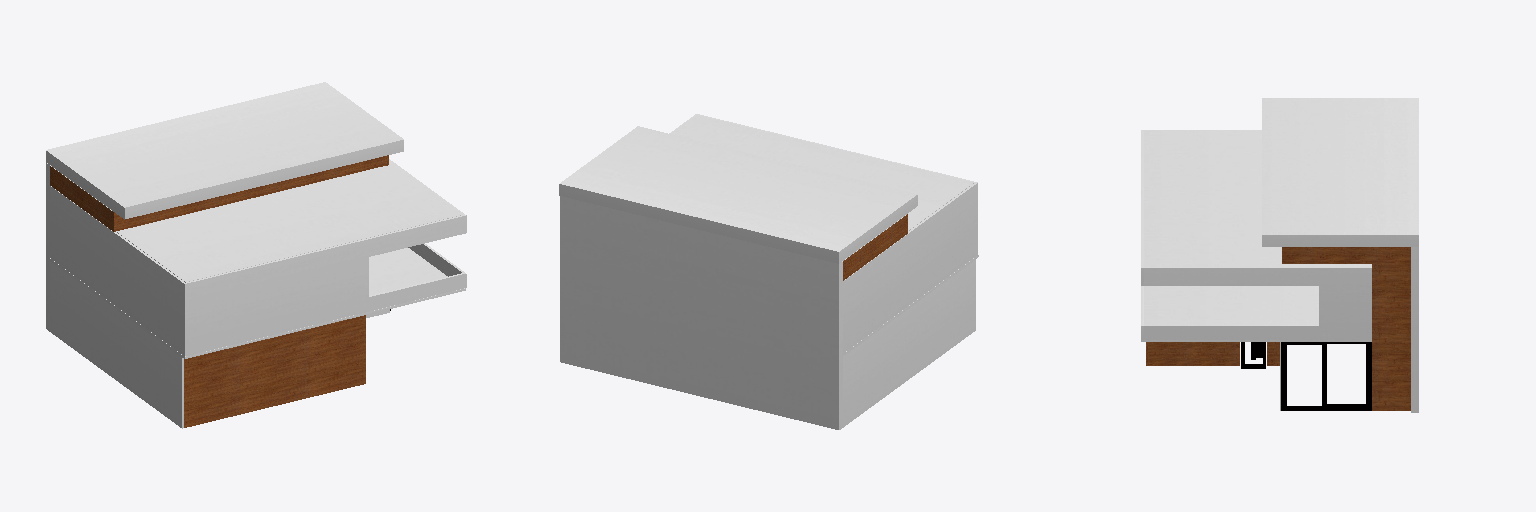
3 views of the same model, side by side, from view 1: azimuth 30°, elevation 25°; view 2: azimuth 150°, elevation 25°; view 3: azimuth 270°, elevation 25° (orthographic).
Bounding box in the file's own units: 1240 × 750 × 1061.
4 materials, 3 textured.